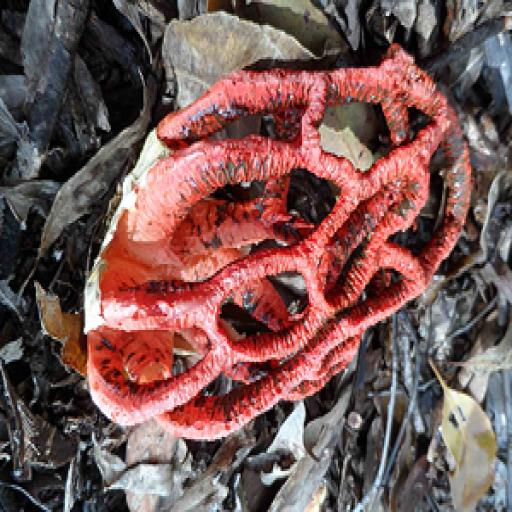Red Cage Fungus: (80, 58, 472, 432)
